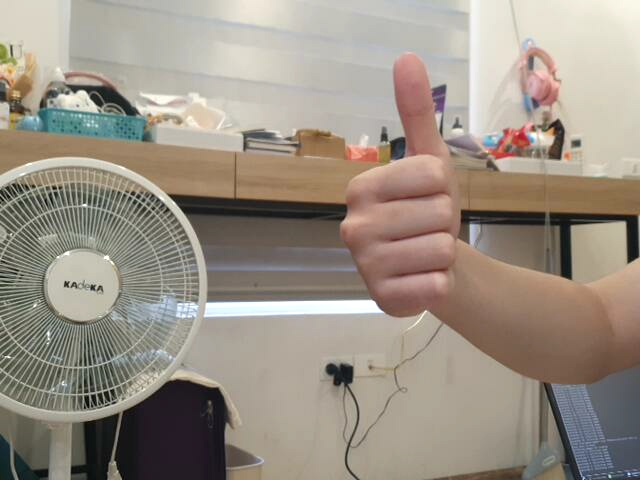ThumbsUp: (336, 50, 466, 320)
